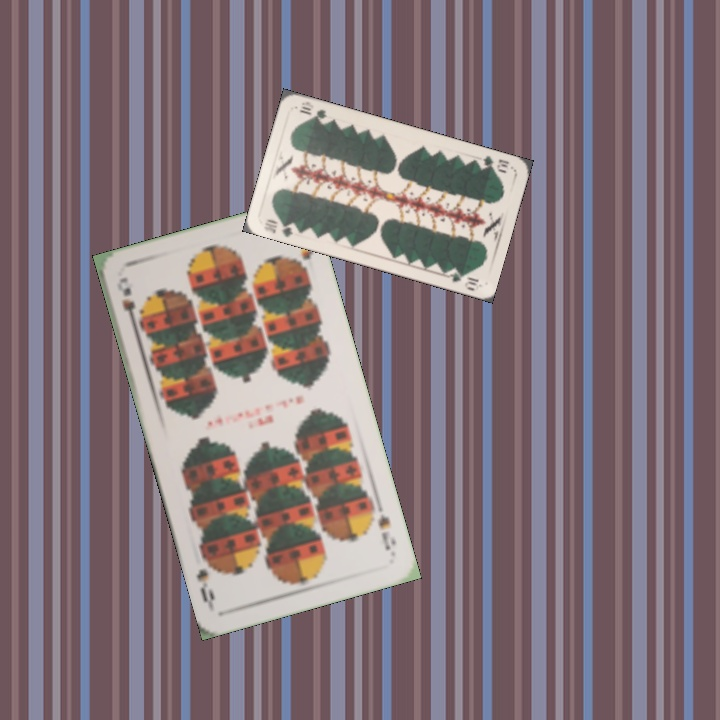G10: (260, 215, 301, 239), (479, 151, 511, 176)
S9: (113, 273, 145, 331), (373, 501, 399, 553)
